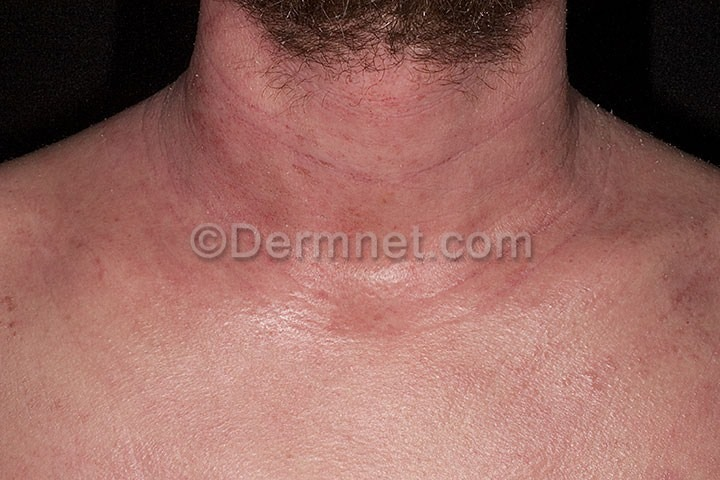Eczema: (14, 169, 720, 472), (191, 83, 585, 165)
